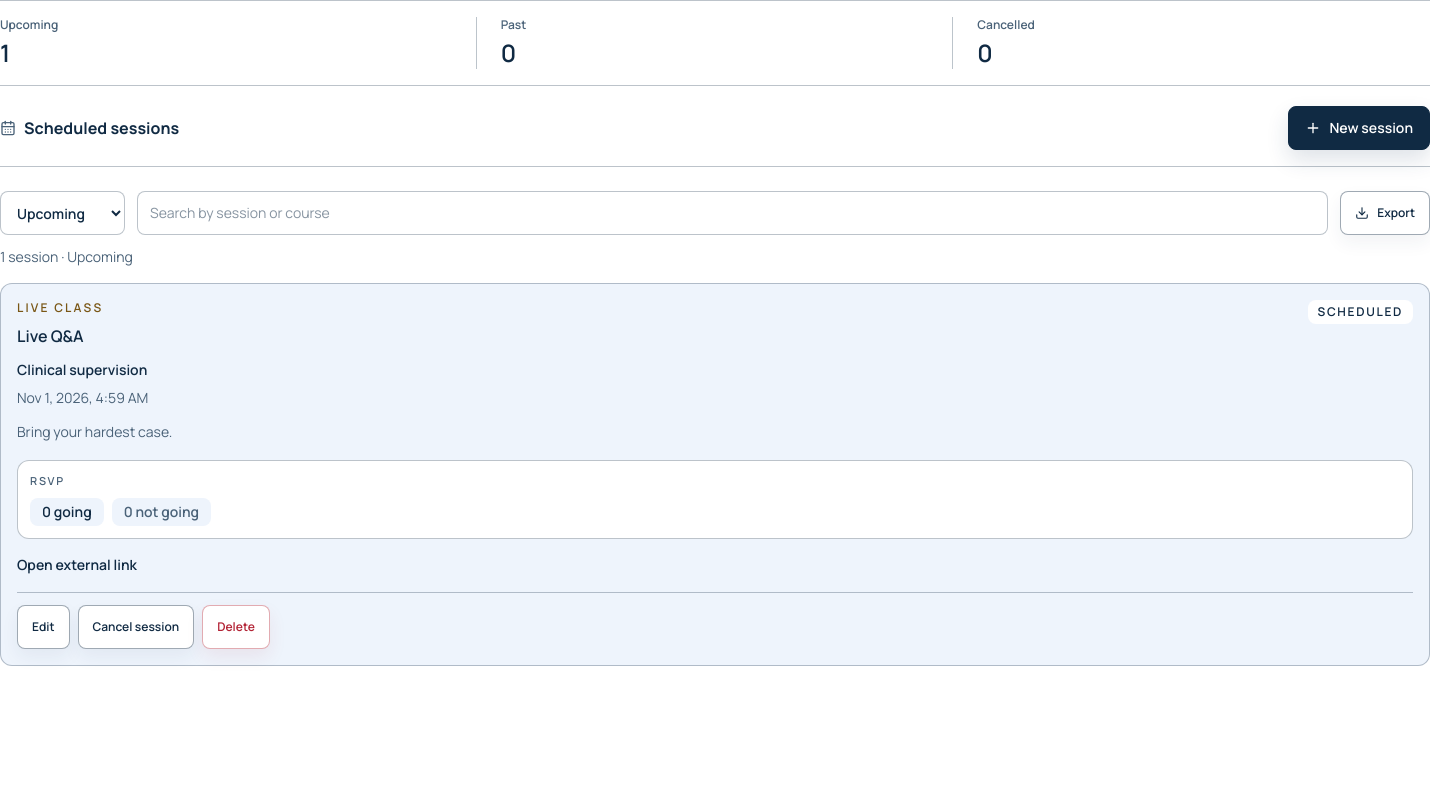
agenda de eventos no padrao da casa › abre com a lista e ZERO formulario; o formulario so entra depois do pedido
Expected: the heading "Live Q&A" is shown, left=17, top=325, right=84, bottom=347
Click the button "New session".
click(1359, 128)  # box left=1288, top=106, right=1430, bottom=150
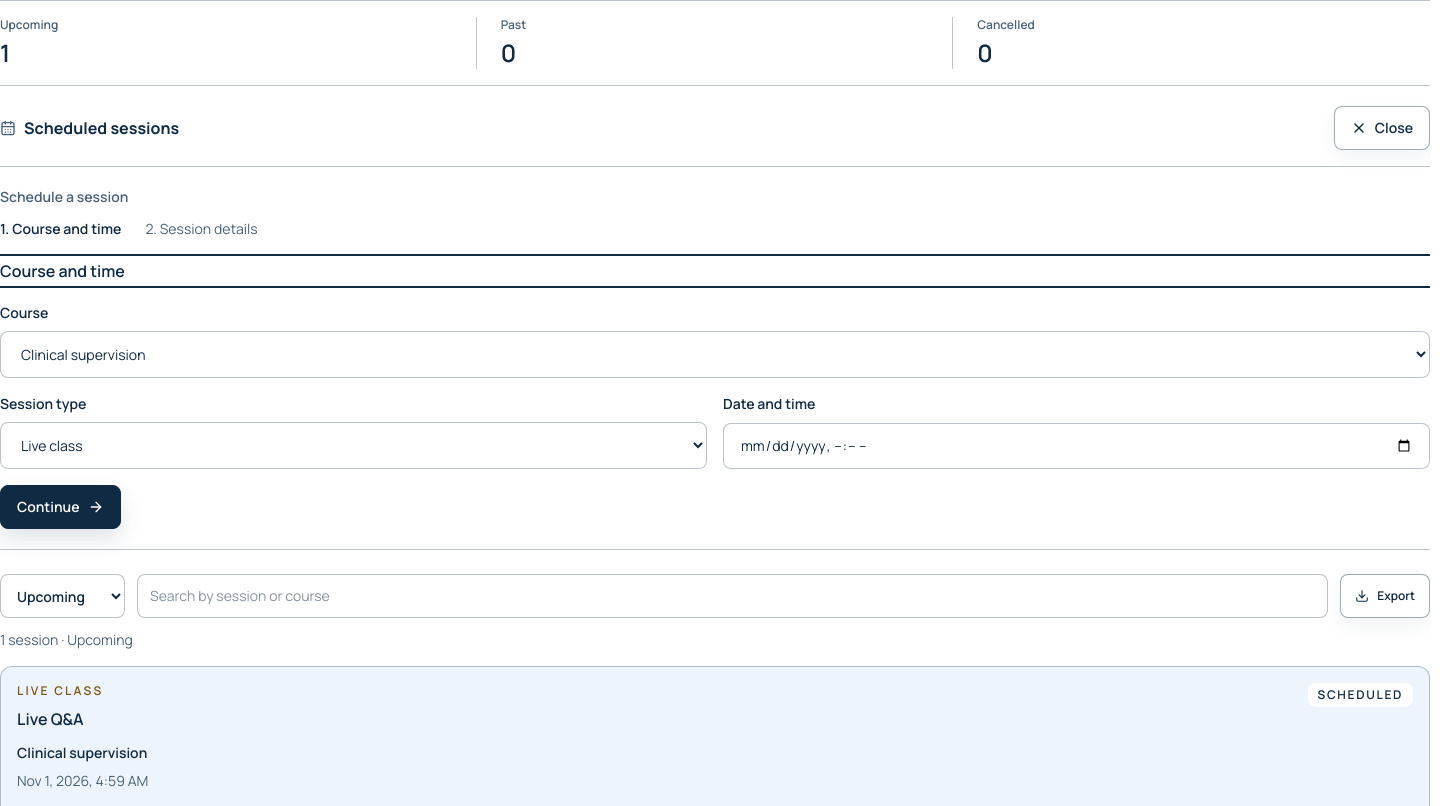
Result: the field labelled "Date and time" is shown at left=723, top=422, right=1430, bottom=469
Result: the dropdown labelled "Course" is shown at left=0, top=331, right=1430, bottom=378
